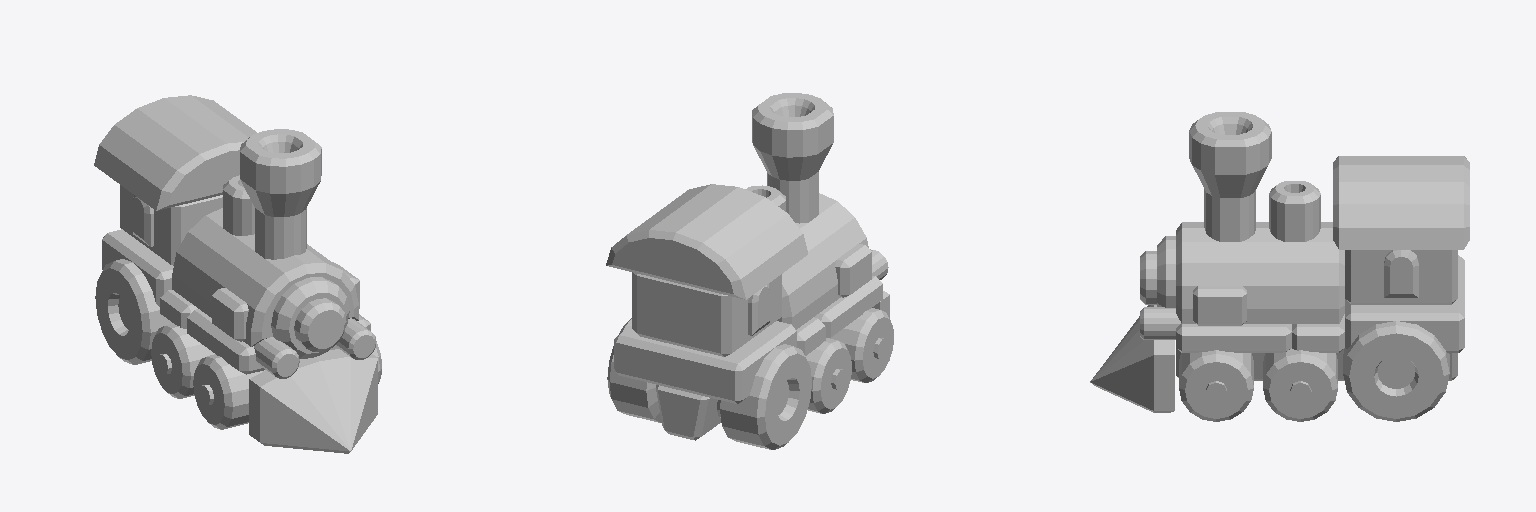
Rendered from train_locomotive.obj.
The picture shows the model from 3 angles: view 1: azimuth 30°, elevation 25°; view 2: azimuth 150°, elevation 25°; view 3: azimuth 270°, elevation 25°; orthographic projection.
Visible parts, largest first — view 1: train_locomotive; view 2: train_locomotive; view 3: train_locomotive.
Part boxes in pixels (left/top/right/bottom): train_locomotive: left=94, top=95, right=381, bottom=453; train_locomotive: left=606, top=93, right=893, bottom=449; train_locomotive: left=1090, top=112, right=1469, bottom=421.
Size of the model in its own units: 0.4324 by 0.6487 by 0.8578.